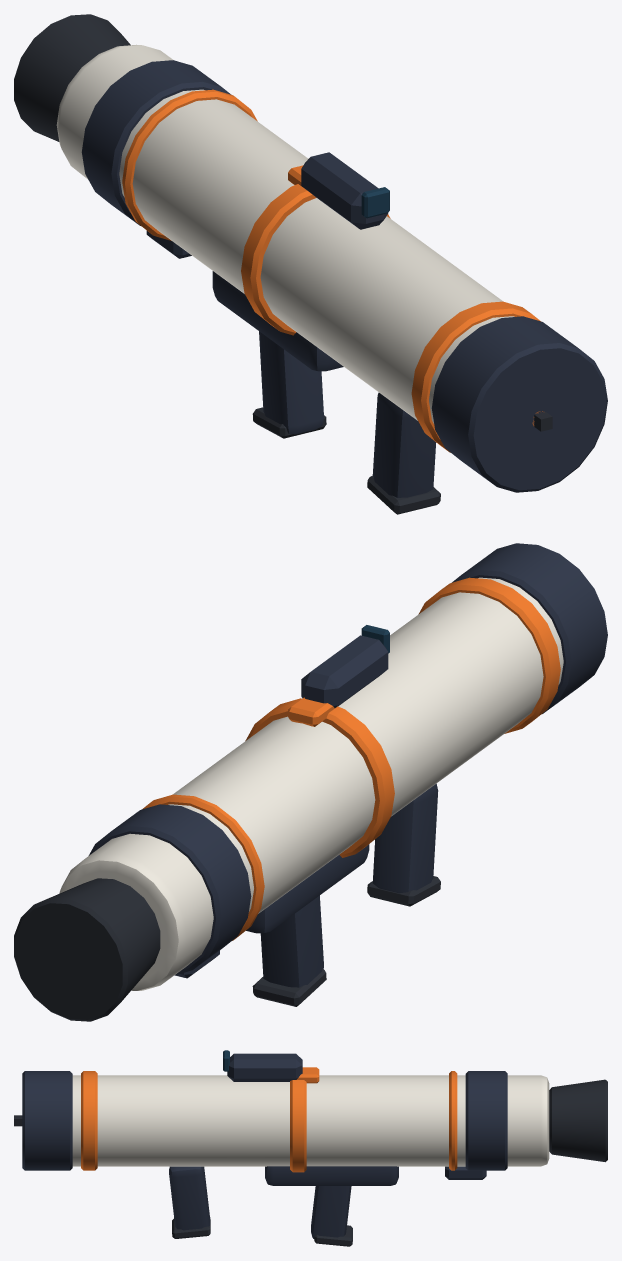
Rendered from wpn_rocket_tube.fbx.
3 renders of one model, top to bottom at view 1: azimuth 30°, elevation 25°; view 2: azimuth 150°, elevation 25°; view 3: azimuth 270°, elevation 25°, orthographic. The views are drawn at different scales.
Visible parts, largest first — view 1: Body; view 2: Body; view 3: Body.
Boxes of the visible parts, <box> form: Body: <box>14,14,607,514</box>; Body: <box>14,543,607,1021</box>; Body: <box>22,1050,607,1246</box>.
Bounding box in the file's own units: 1.24 × 2.47 × 7.1.
Materials: 2 (1 with a texture image).
